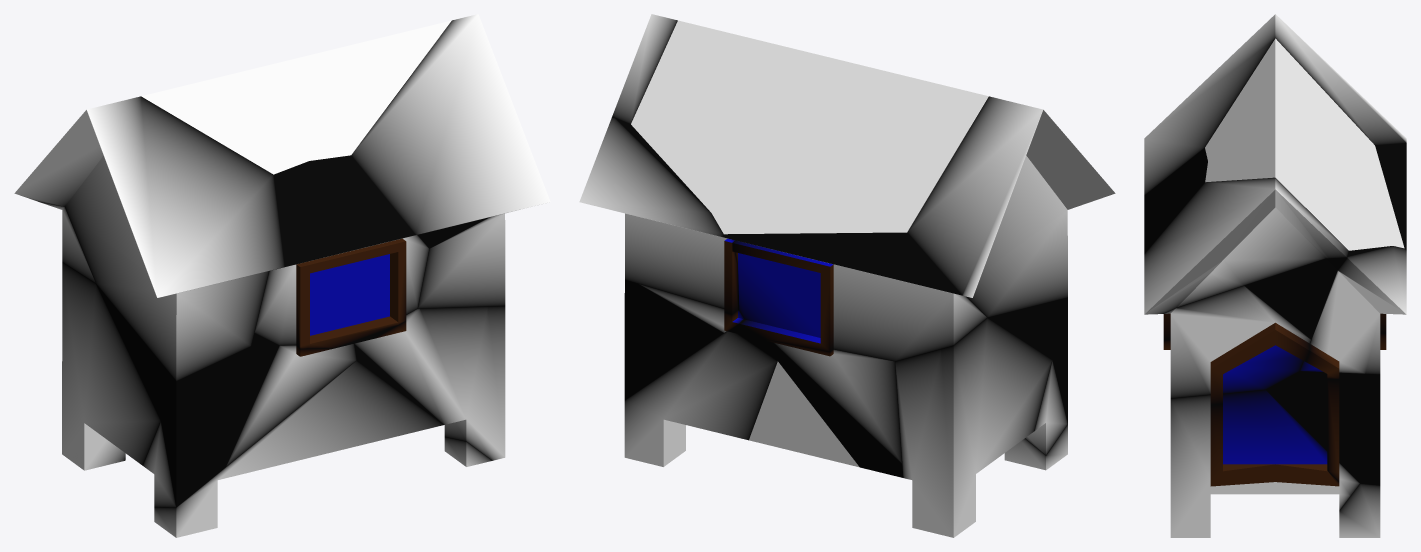
Rendered from Farm_Stabbur_1_D.fbx.
3 views of the same model, side by side, from view 1: azimuth 30°, elevation 25°; view 2: azimuth 150°, elevation 25°; view 3: azimuth 270°, elevation 25° (orthographic). The views are drawn at different scales.
Visible parts, largest first — view 1: Farm_Stabbur_1_fracturepart13, Farm_Stabbur_1_fracturepart16, Farm_Stabbur_1_fracturepart14, Farm_Stabbur_1_fracturepart8, Farm_Stabbur_1_fracturepart1, Farm_Stabbur_1_fracturepart15, Farm_Stabbur_1_fracturepart12, Farm_Stabbur_1_fracturepart3, Farm_Stabbur_1_fracturepart2, Farm_Stabbur_1_fracturepart11, Farm_Stabbur_1_fracturepart6, Farm_Stabbur_1_fracturepart3_2; view 2: Farm_Stabbur_1_fracturepart13, Farm_Stabbur_1_fracturepart12, Farm_Stabbur_1_fracturepart6, Farm_Stabbur_1_fracturepart2, Farm_Stabbur_1_fracturepart1, Farm_Stabbur_1_fracturepart10, Farm_Stabbur_1_fracturepart4, Farm_Stabbur_1_fracturepart5, Farm_Stabbur_1_fracturepart7, Farm_Stabbur_1_fracturepart9, Farm_Stabbur_1_fracturepart8, Farm_Stabbur_1_fracturepart16 (+1 smaller); view 3: Farm_Stabbur_1_fracturepart16, Farm_Stabbur_1_fracturepart15, Farm_Stabbur_1_fracturepart11, Farm_Stabbur_1_fracturepart12, Farm_Stabbur_1_fracturepart13, Farm_Stabbur_1_fracturepart2, Farm_Stabbur_1_fracturepart10, Farm_Stabbur_1_fracturepart7, Farm_Stabbur_1_fracturepart14, Farm_Stabbur_1_fracturepart4, Farm_Stabbur_1_fracturepart6.
Boxes of the visible parts, x1,y1,x2,y2 form: Farm_Stabbur_1_fracturepart13: (14, 96, 284, 381); Farm_Stabbur_1_fracturepart16: (351, 14, 550, 248); Farm_Stabbur_1_fracturepart14: (251, 155, 429, 348); Farm_Stabbur_1_fracturepart8: (143, 344, 356, 507); Farm_Stabbur_1_fracturepart1: (62, 262, 176, 470); Farm_Stabbur_1_fracturepart15: (354, 306, 505, 460); Farm_Stabbur_1_fracturepart12: (232, 20, 451, 160); Farm_Stabbur_1_fracturepart3: (154, 361, 443, 537); Farm_Stabbur_1_fracturepart2: (141, 74, 308, 174); Farm_Stabbur_1_fracturepart11: (417, 213, 505, 308); Farm_Stabbur_1_fracturepart6: (38, 201, 95, 283); Farm_Stabbur_1_fracturepart3_2: (444, 437, 492, 466); Farm_Stabbur_1_fracturepart13: (907, 96, 1115, 317); Farm_Stabbur_1_fracturepart12: (631, 20, 897, 212); Farm_Stabbur_1_fracturepart6: (723, 232, 987, 361); Farm_Stabbur_1_fracturepart2: (711, 74, 988, 234); Farm_Stabbur_1_fracturepart1: (895, 297, 1067, 537); Farm_Stabbur_1_fracturepart10: (579, 117, 739, 314); Farm_Stabbur_1_fracturepart4: (624, 319, 777, 466); Farm_Stabbur_1_fracturepart5: (766, 339, 903, 477); Farm_Stabbur_1_fracturepart7: (624, 280, 743, 400); Farm_Stabbur_1_fracturepart9: (749, 361, 859, 467); Farm_Stabbur_1_fracturepart8: (1025, 300, 1067, 455); Farm_Stabbur_1_fracturepart16: (612, 14, 677, 124); Farm_Stabbur_1_fracturepart16: (1144, 177, 1348, 314); Farm_Stabbur_1_fracturepart15: (1163, 340, 1359, 537); Farm_Stabbur_1_fracturepart11: (1164, 257, 1347, 404); Farm_Stabbur_1_fracturepart12: (1205, 79, 1392, 250); Farm_Stabbur_1_fracturepart13: (1144, 14, 1406, 195); Farm_Stabbur_1_fracturepart2: (1205, 38, 1404, 248); Farm_Stabbur_1_fracturepart10: (1300, 246, 1406, 378); Farm_Stabbur_1_fracturepart7: (1266, 333, 1386, 485); Farm_Stabbur_1_fracturepart14: (1144, 148, 1207, 340); Farm_Stabbur_1_fracturepart4: (1339, 483, 1380, 537); Farm_Stabbur_1_fracturepart6: (1375, 143, 1406, 249).
Size of the model in its own units: 682 by 654 by 429.
